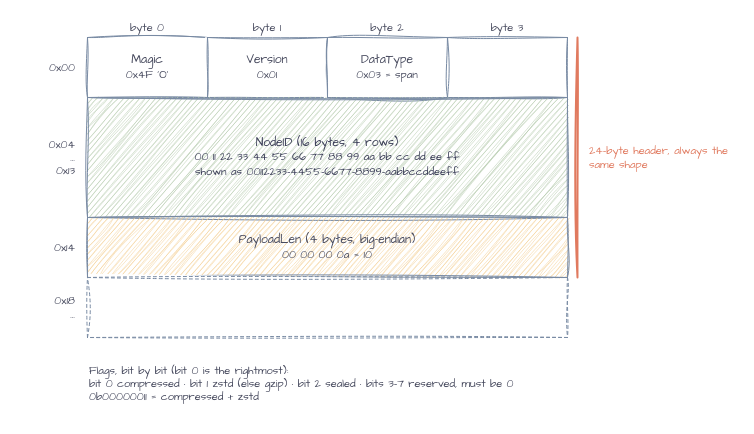
Image size: 754x434. Some labels were removed from this diagram. Each missing label, with the centre of its shape:
Flags 0b00000011: (507,67)
Payload (PayloadLen bytes) 68 65 6c 6c 6f 20 6d 65 73 68 = "hello mesh": (327,307)
